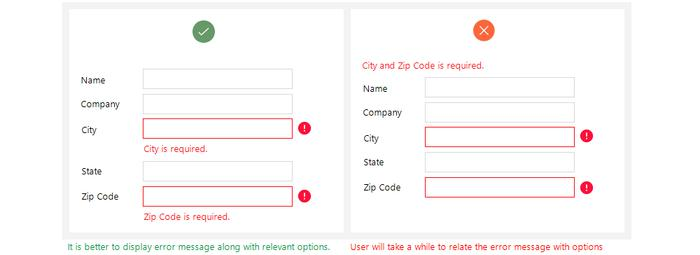error_field: (141, 117, 294, 141), (141, 185, 294, 209), (423, 176, 576, 200), (424, 125, 577, 149)
error_message: (347, 239, 604, 253), (360, 59, 484, 71), (140, 211, 231, 222), (141, 142, 208, 156)
